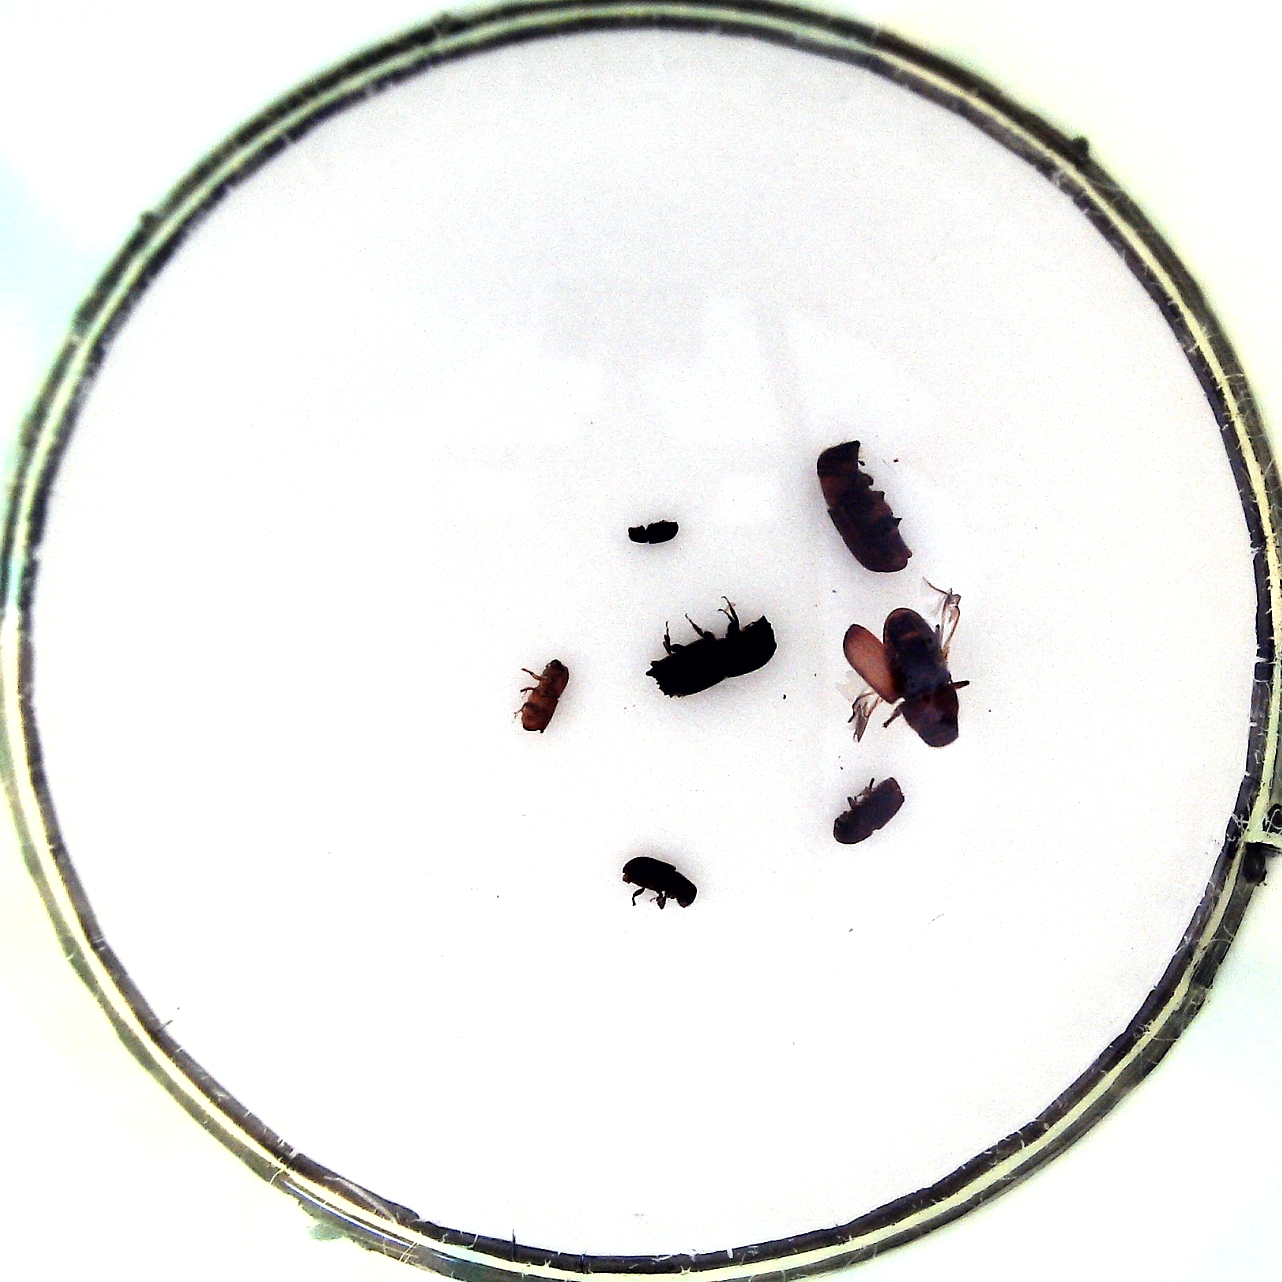Boerner: (639, 594, 781, 699)
Leconte: (837, 586, 981, 753), (814, 436, 922, 576)
Linnaeus: (825, 776, 907, 851)
acuminatus: (507, 656, 576, 736)
armandi: (621, 851, 702, 915)
coleoptera: (621, 515, 684, 545)
